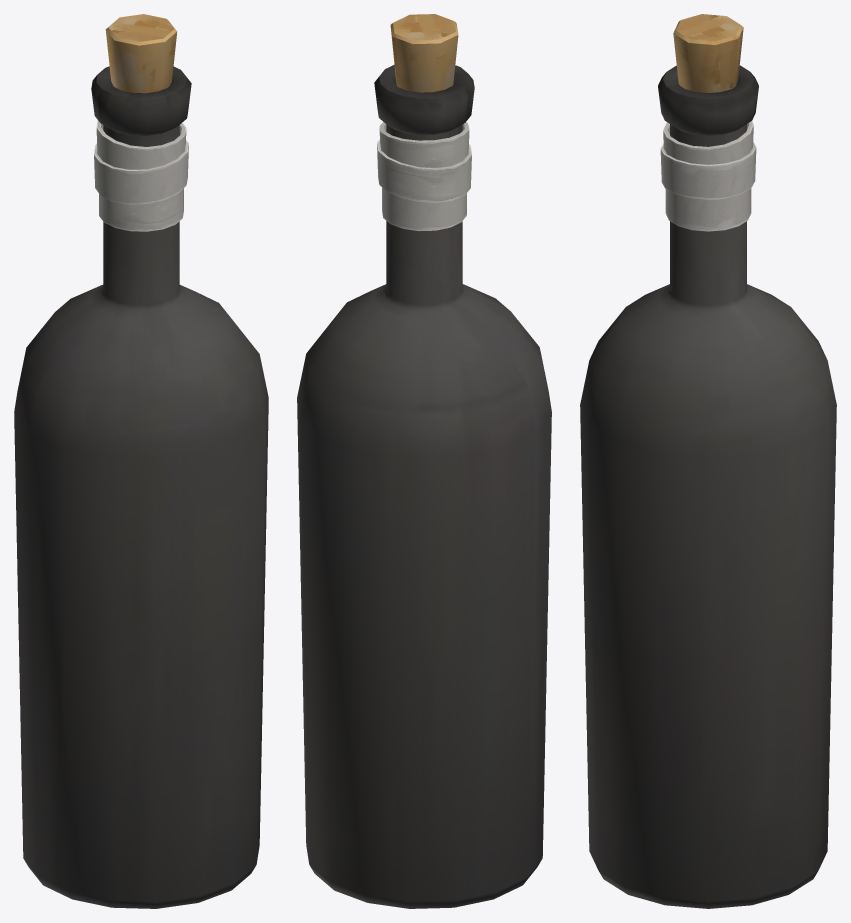
3 views of the same model, side by side, from view 1: azimuth 30°, elevation 25°; view 2: azimuth 150°, elevation 25°; view 3: azimuth 270°, elevation 25° (orthographic).
Parts seen in each view (by area): view 1: body0_model0_lod0_mesh1, body0_model0_lod0_mesh0; view 2: body0_model0_lod0_mesh1, body0_model0_lod0_mesh0; view 3: body0_model0_lod0_mesh1, body0_model0_lod0_mesh0.
Part boxes in pixels (x1=…): body0_model0_lod0_mesh1: x1=14, y1=66, x2=268, y2=908; body0_model0_lod0_mesh0: x1=94, y1=14, x2=188, y2=231; body0_model0_lod0_mesh1: x1=297, y1=65, x2=551, y2=908; body0_model0_lod0_mesh0: x1=377, y1=14, x2=471, y2=231; body0_model0_lod0_mesh1: x1=580, y1=65, x2=836, y2=908; body0_model0_lod0_mesh0: x1=660, y1=14, x2=756, y2=231.
Size of the model in its own units: 6.14 by 22.21 by 6.14.
3 materials, 3 textured.
